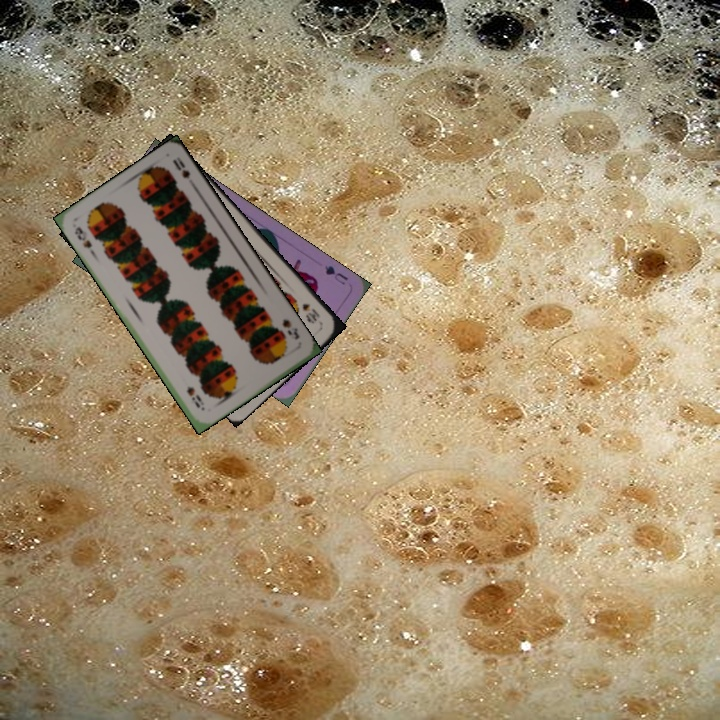GU: (321, 261, 350, 288)
S10: (298, 299, 324, 327)
S8: (70, 223, 97, 258), (278, 315, 302, 342)
